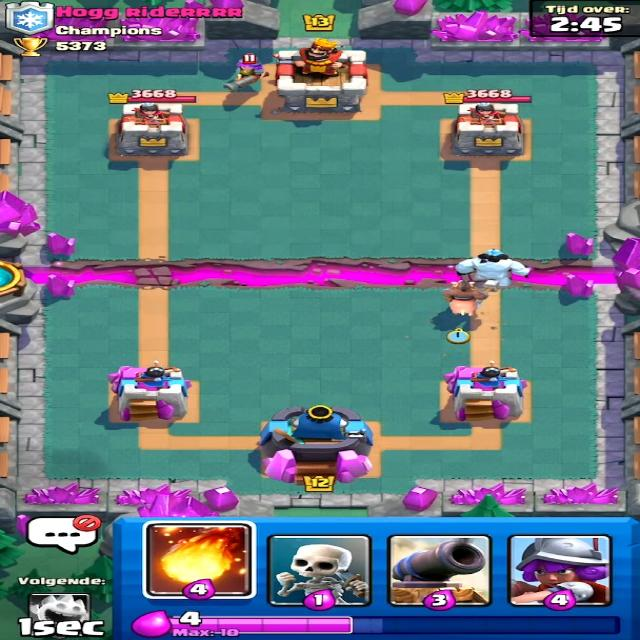Cannon_Card: (382, 537, 501, 610)
Enemy_Musketeer_Troop: (223, 46, 268, 106)
Fireball_Card: (145, 518, 259, 598)
Hog_Rider_Troop: (440, 276, 500, 315)
Ice_Golem_Troop: (448, 248, 536, 290)
Musketeer_Card: (512, 535, 608, 606)
Skeleton_Card: (267, 534, 355, 604)
